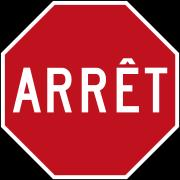Stop: (6, 5, 172, 173)
